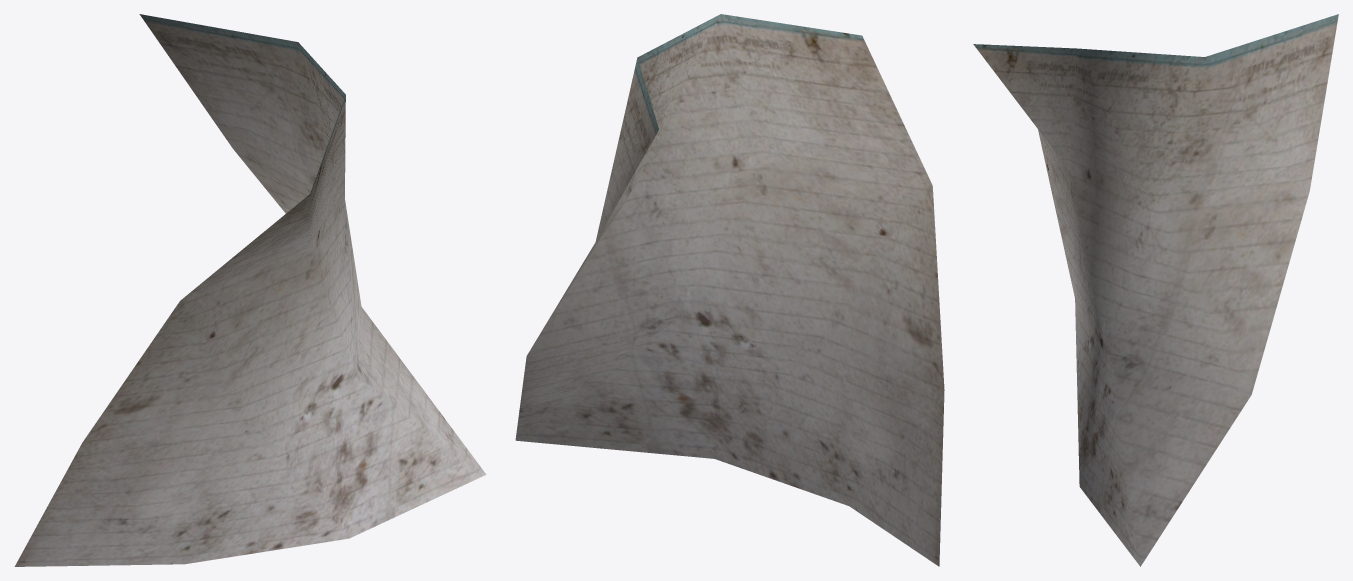
Rendered from fx_decal_burnt_paper2_LOD1.obj.
The picture shows the model from 3 angles, left to right: view 1: azimuth 30°, elevation 25°; view 2: azimuth 150°, elevation 25°; view 3: azimuth 270°, elevation 25°; orthographic projection. The views are drawn at different scales.
Visible parts, largest first — view 1: mtl_fx_decal_burnt_paper; view 2: mtl_fx_decal_burnt_paper; view 3: mtl_fx_decal_burnt_paper.
Boxes of the visible parts, x1,y1,x2,y2 form: mtl_fx_decal_burnt_paper: (14,14,486,566); mtl_fx_decal_burnt_paper: (515,14,944,566); mtl_fx_decal_burnt_paper: (973,14,1338,566).
Bounding box in the file's own units: 22.69 × 21.57 × 16.4.
